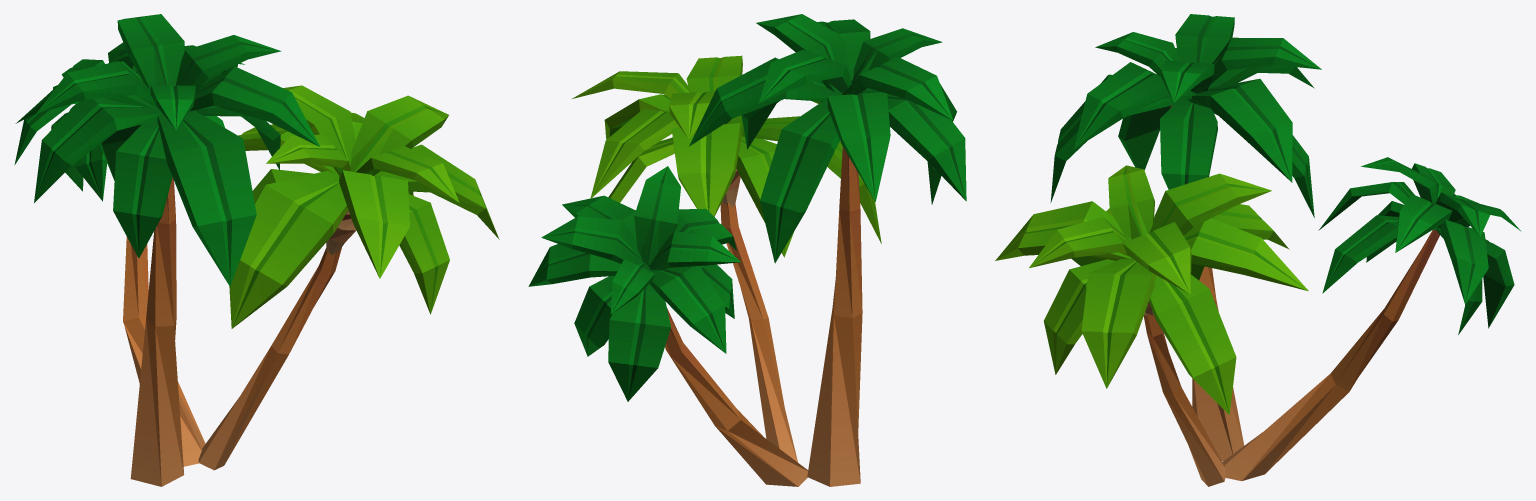
The model's file is tree005.gltf.
3 views of the same model, side by side, from view 1: azimuth 30°, elevation 25°; view 2: azimuth 150°, elevation 25°; view 3: azimuth 270°, elevation 25° (orthographic). The views are drawn at different scales.
Parts seen in each view (by area): view 1: node_Palmtree04_-189462; view 2: node_Palmtree04_-189462; view 3: node_Palmtree04_-189462.
Part boxes in pixels (x1=…): node_Palmtree04_-189462: x1=14, y1=14, x2=499, y2=486; node_Palmtree04_-189462: x1=528, y1=14, x2=966, y2=486; node_Palmtree04_-189462: x1=995, y1=14, x2=1521, y2=486.
Size of the model in its own units: 7.71 by 7.74 by 8.86.
Materials: 1 (1 with a texture image).
